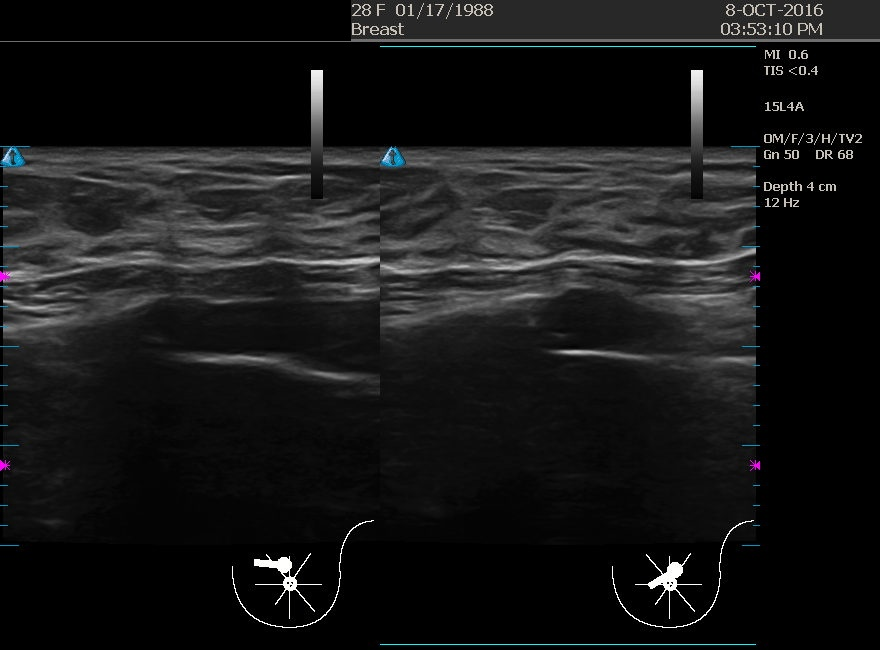BIRADS_2: (29, 150, 229, 352), (409, 149, 609, 350)
